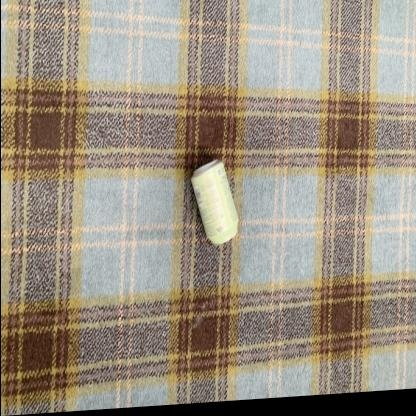trash: (191, 160, 238, 244)
